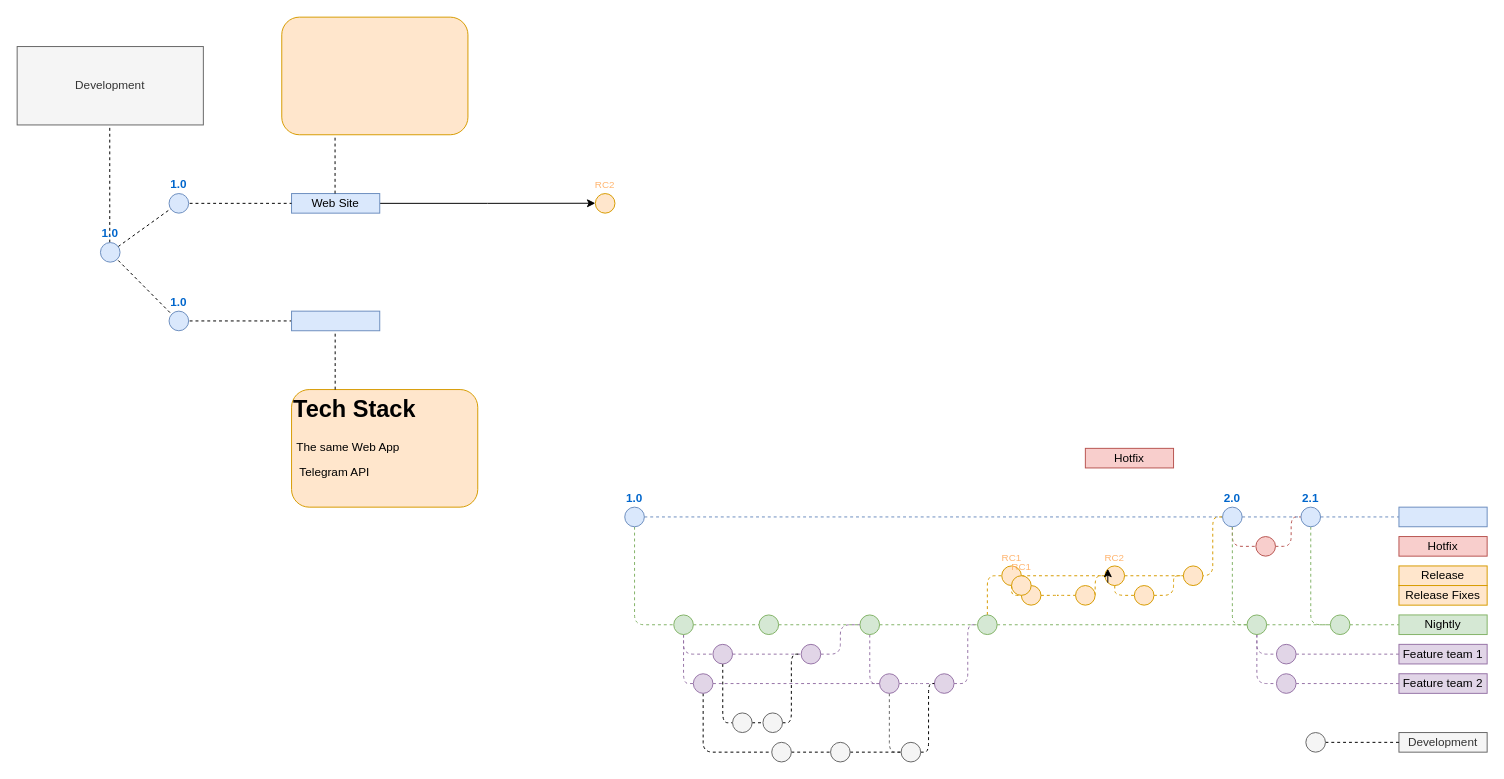
Image size: 1504x779. Some labels were removed from this diagram. The box of each missing label's shape, as (x1, y1, x2, y2) in pixels:
Master: (1398, 506, 1487, 527)
RC3: (1182, 565, 1203, 586)
Tech Stack React, SCSS, Redux, TypeScript etc. C#, #NET: (281, 16, 468, 135)
Telegram App: (291, 310, 380, 331)
